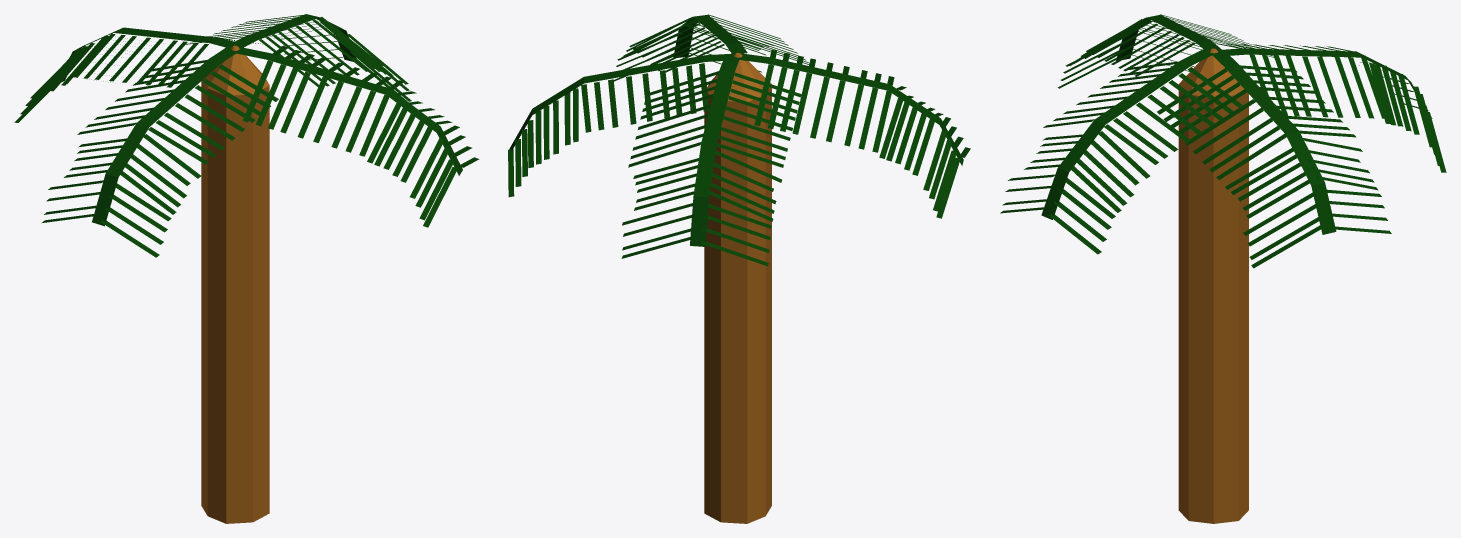
Rendered from tree12.obj.
The picture shows the model from 3 angles, left to right: view 1: azimuth 30°, elevation 25°; view 2: azimuth 150°, elevation 25°; view 3: azimuth 270°, elevation 25°; orthographic projection.
Parts seen in each view (by area): view 1: Cube, Plane.003_Plane.050, Plane.000_Plane.047, Plane.002_Plane.049, Plane.001_Plane.048; view 2: Cube, Plane.001_Plane.048, Plane.003_Plane.050, Plane.002_Plane.049, Plane.000_Plane.047; view 3: Cube, Plane.002_Plane.049, Plane.000_Plane.047, Plane.001_Plane.048, Plane.003_Plane.050.
Part boxes in pixels (bbox=[...]): Cube: bbox=[201, 45, 269, 523]; Plane.003_Plane.050: bbox=[41, 46, 278, 257]; Plane.000_Plane.047: bbox=[236, 46, 479, 227]; Plane.002_Plane.049: bbox=[186, 14, 411, 102]; Plane.001_Plane.048: bbox=[14, 27, 262, 122]; Cube: bbox=[704, 52, 771, 523]; Plane.001_Plane.048: bbox=[621, 54, 801, 266]; Plane.003_Plane.050: bbox=[736, 49, 970, 218]; Plane.002_Plane.049: bbox=[508, 53, 736, 197]; Plane.000_Plane.047: bbox=[613, 14, 809, 81]; Cube: bbox=[1178, 48, 1248, 523]; Plane.002_Plane.049: bbox=[1157, 49, 1391, 268]; Plane.000_Plane.047: bbox=[1000, 49, 1242, 254]; Plane.001_Plane.048: bbox=[1215, 43, 1446, 172]; Plane.003_Plane.050: bbox=[1057, 14, 1274, 88].
Size of the model in its own units: 4.13 by 4.58 by 4.03.
